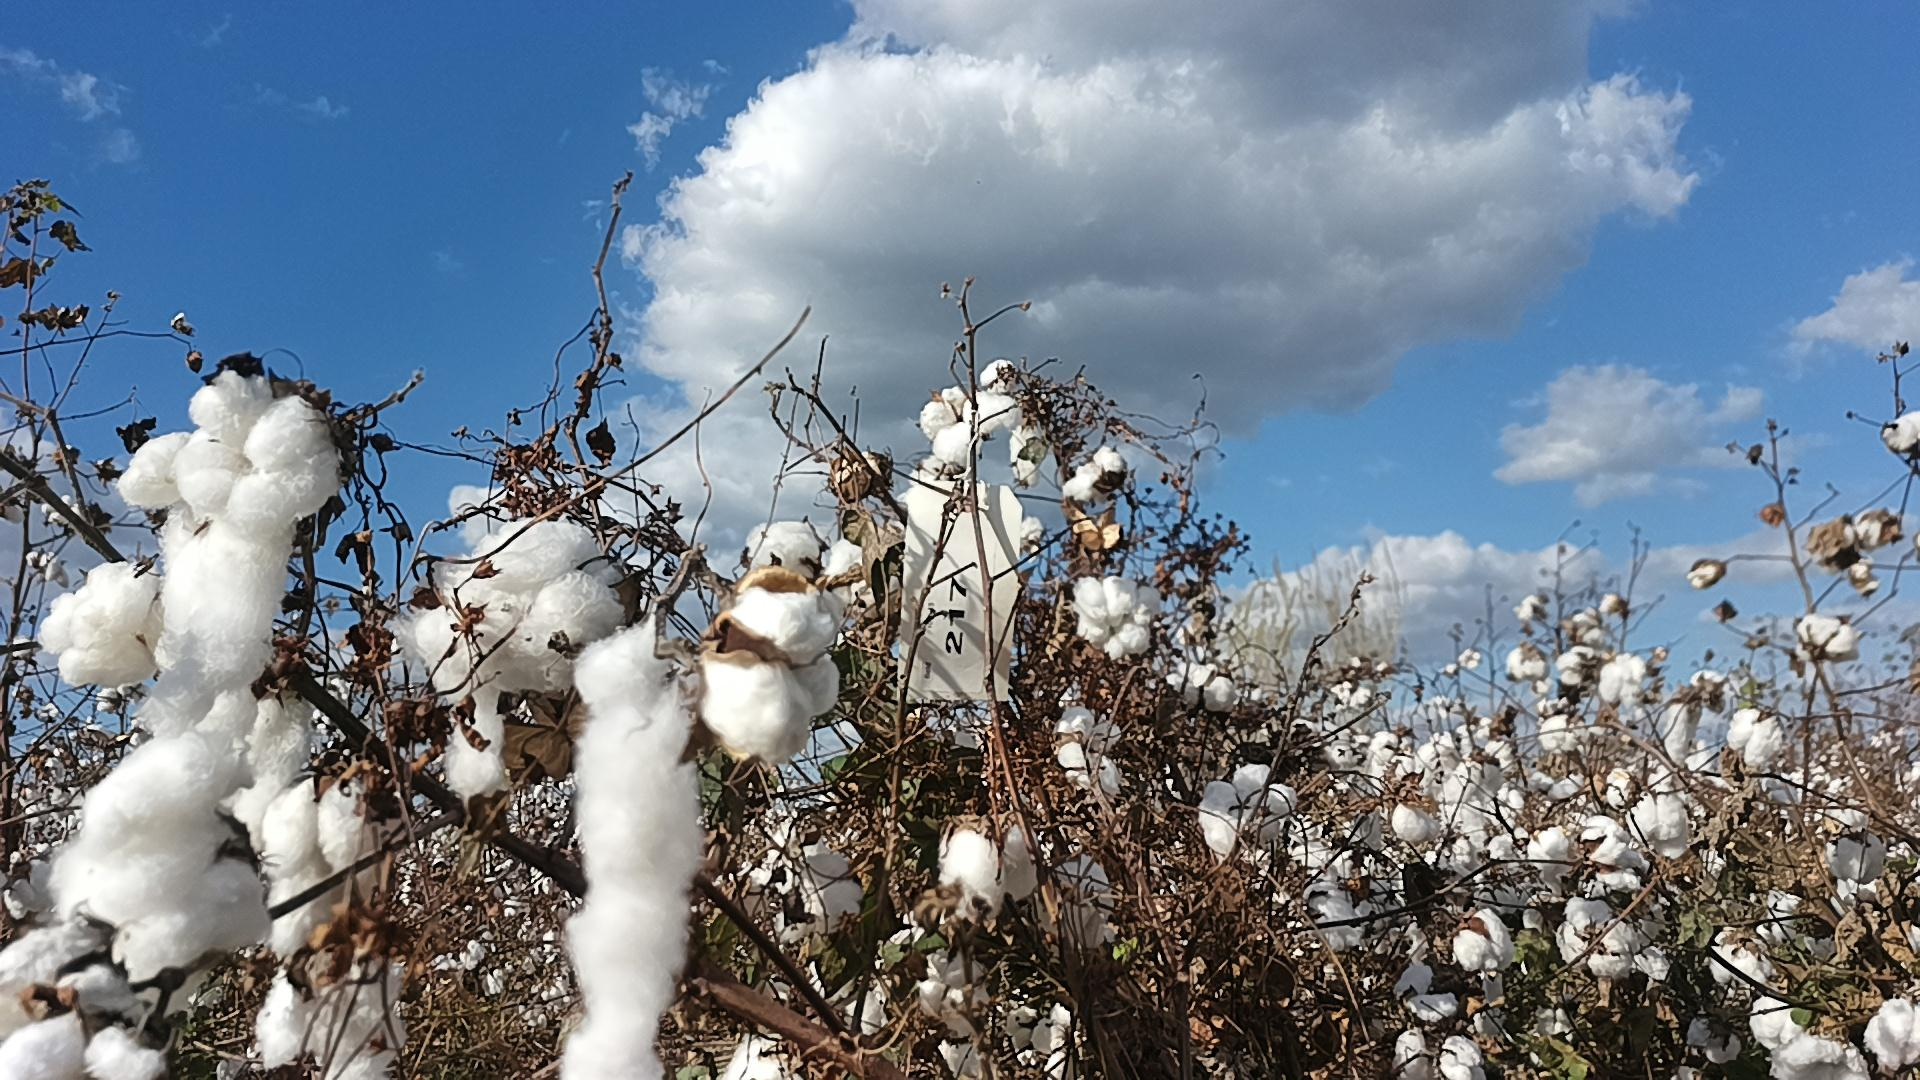cotton_ready: (560, 625, 703, 1080), (415, 517, 637, 803), (50, 727, 260, 916), (111, 814, 272, 1010), (175, 364, 343, 542), (150, 505, 295, 688), (703, 592, 840, 766), (135, 673, 314, 804), (261, 781, 402, 945), (255, 936, 402, 1080), (0, 971, 165, 1080), (0, 920, 142, 1039), (38, 560, 170, 688), (936, 819, 1036, 928), (1750, 994, 1865, 1080), (1200, 762, 1296, 858), (1395, 993, 1489, 1080), (1072, 575, 1162, 662), (920, 389, 1014, 467), (914, 947, 994, 1036), (789, 851, 869, 938), (115, 430, 198, 513), (1050, 705, 1121, 798), (1559, 897, 1635, 981), (824, 537, 906, 615), (744, 518, 823, 587), (0, 840, 65, 923), (1582, 816, 1650, 891), (1452, 910, 1524, 975), (1861, 1001, 1920, 1075), (1164, 661, 1238, 716), (1390, 964, 1456, 1023), (715, 1033, 793, 1080)
